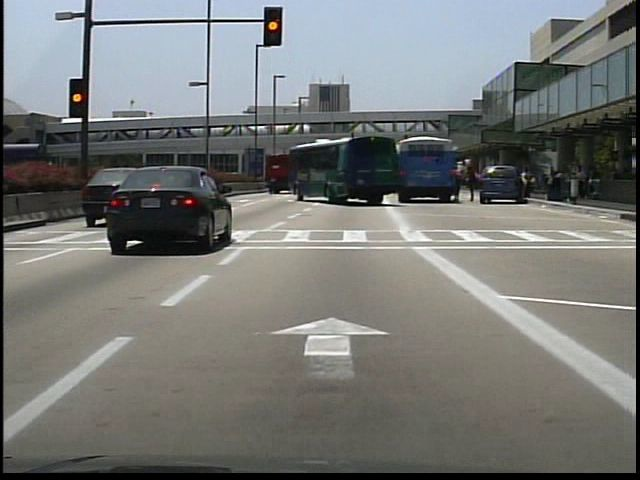person: (453, 164, 468, 203), (464, 159, 477, 202), (520, 168, 533, 204)
